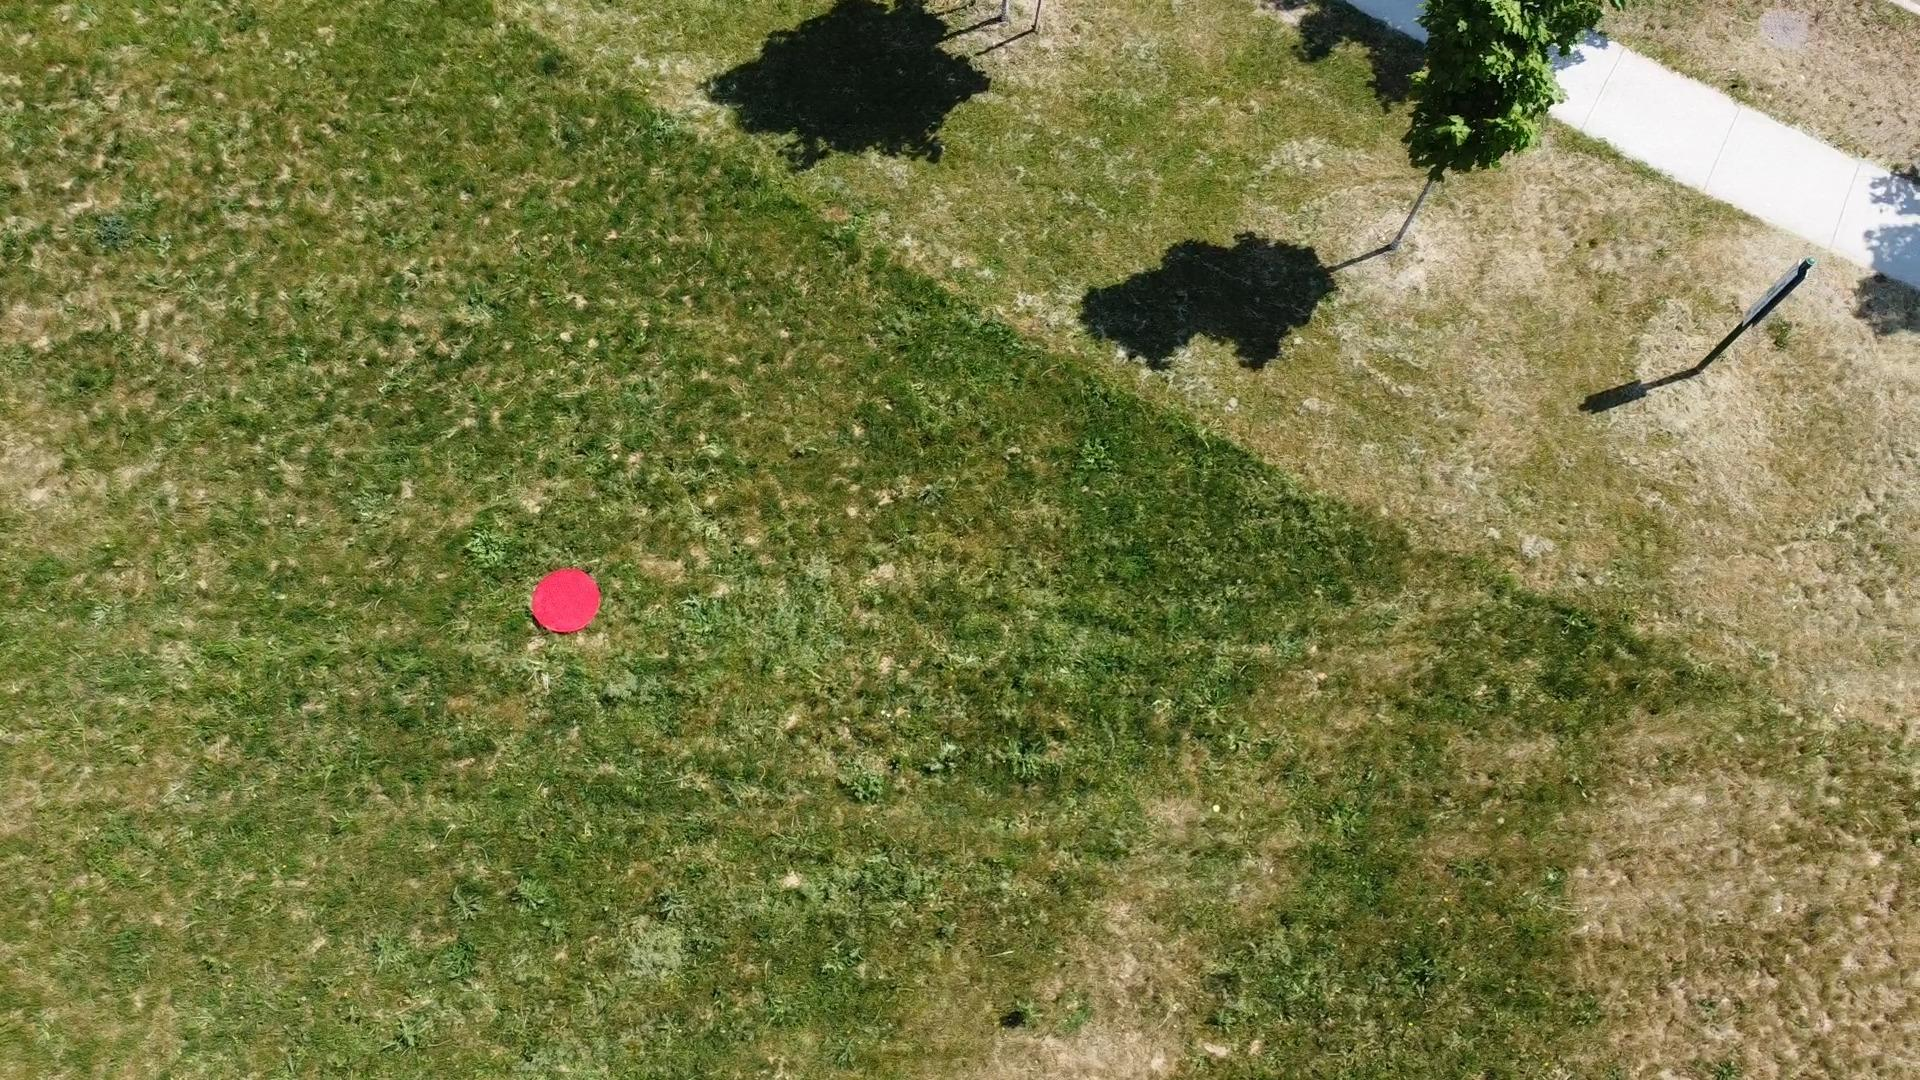Red: (530, 567, 603, 634)
